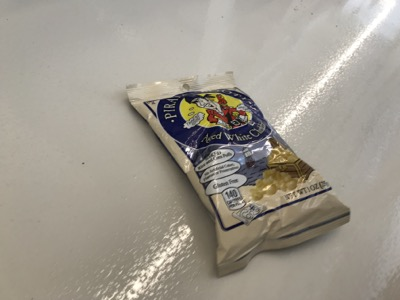pirate booty: (125, 71, 351, 278)
